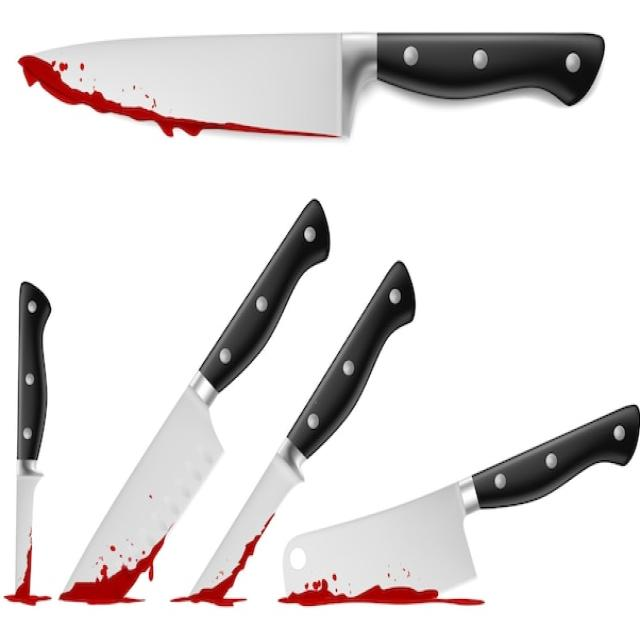Weapon: (62, 201, 327, 599), (189, 263, 414, 600), (285, 405, 639, 600), (26, 33, 604, 136), (15, 282, 50, 600)
